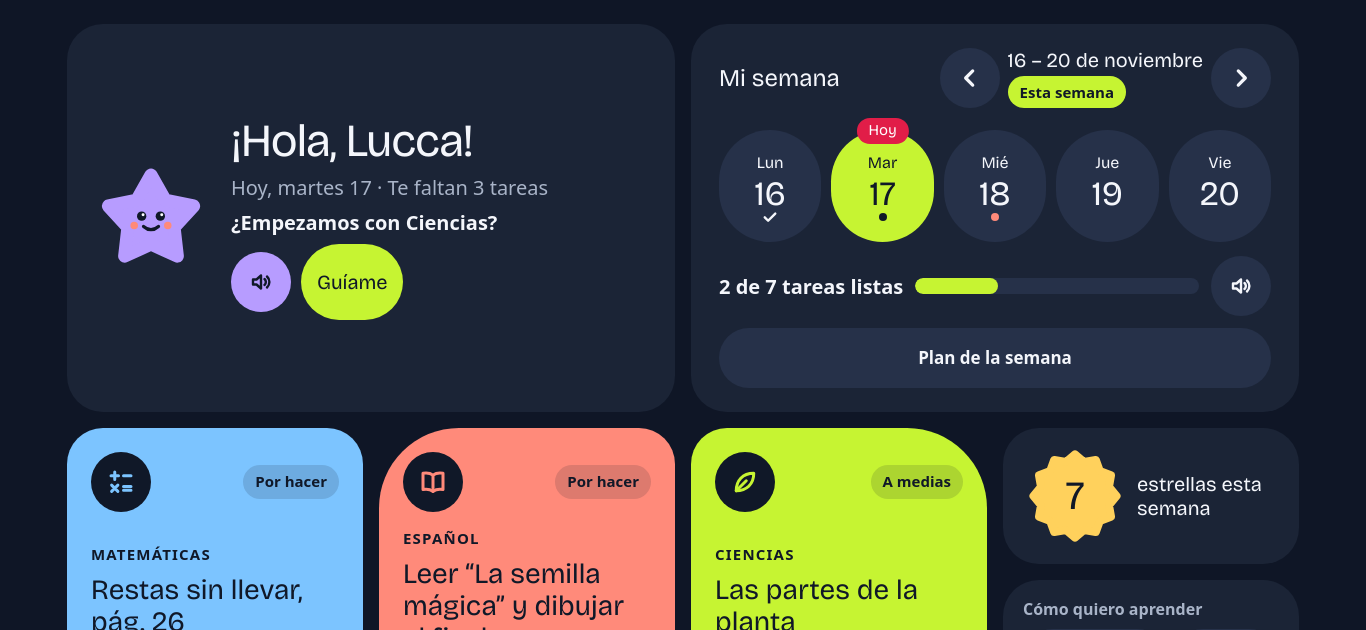
WeekScreen › shows the tasks of another selected day
The image size is (1366, 630).
Click the button with aria-label "Miércoles 18" at point(995, 186), box [944, 130, 1046, 242]
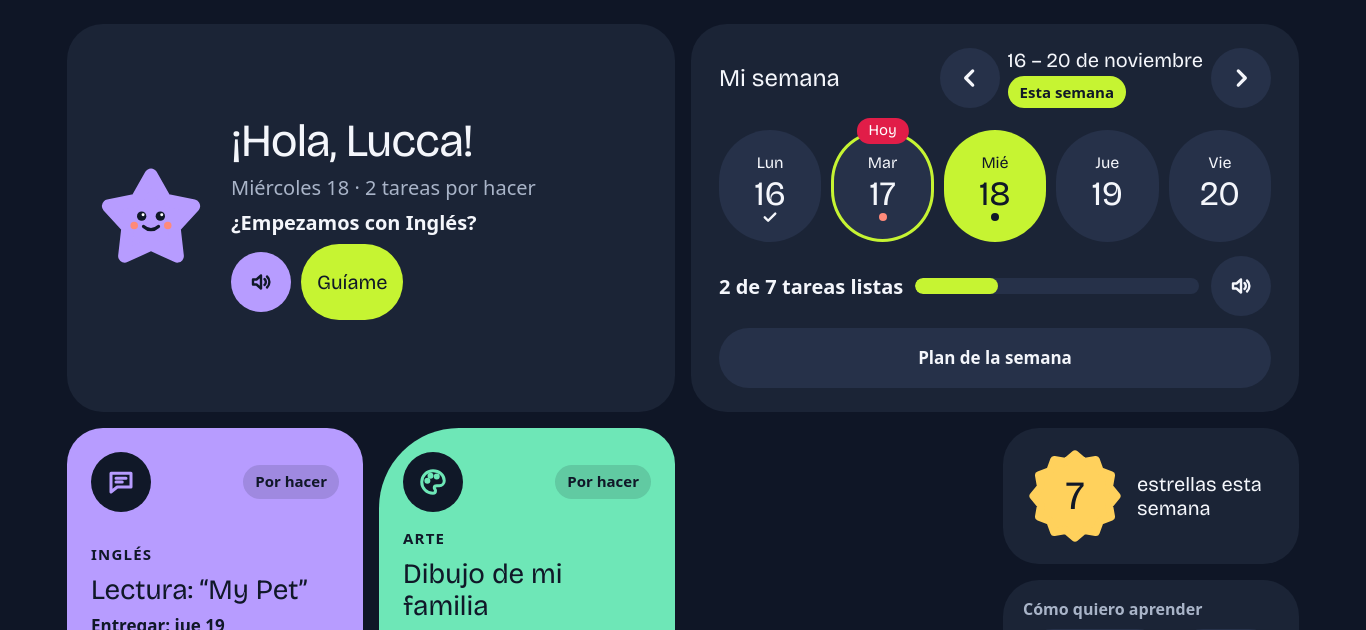
Expected: the heading "Dibujo de mi familia" is shown, [403, 557, 562, 623]
